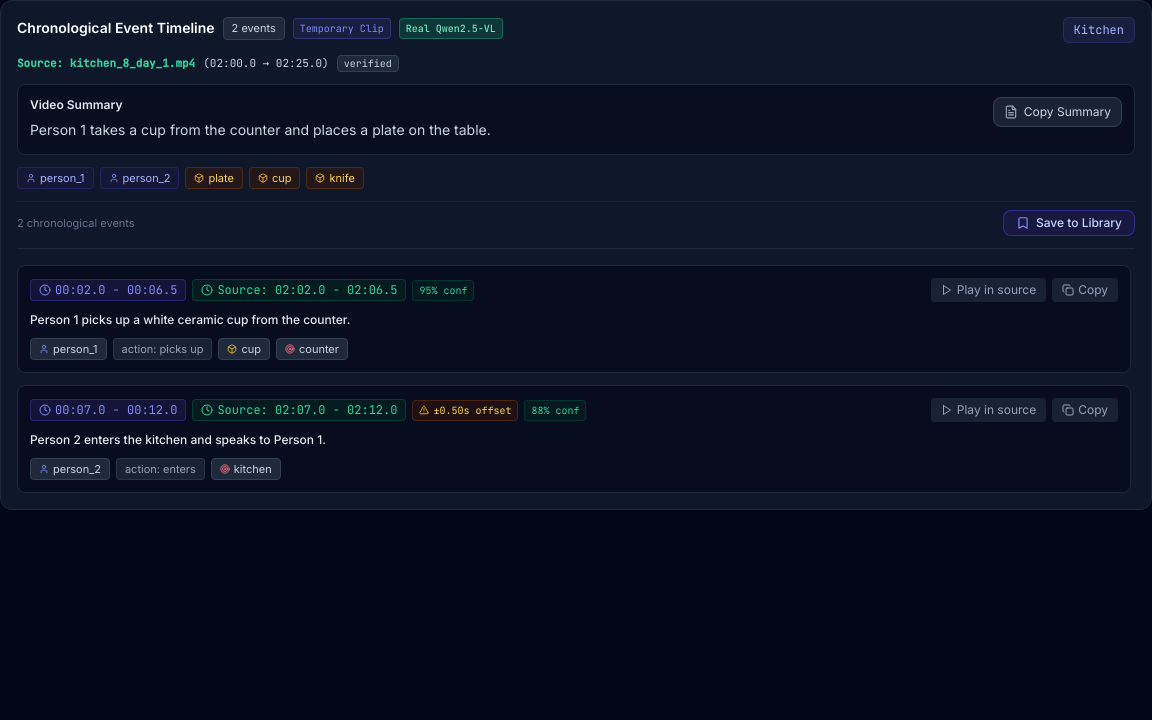
Test: Task 5: Video Understanding, QA, Review and Export Test Suite › 1. Video Understanding Workspace & Copy/Download Actions › copies summary to clipboard on click
This screenshot has width=1152, height=720.
Click the button with test id "copy-summary-btn": [1057, 112] box [993, 97, 1122, 127]
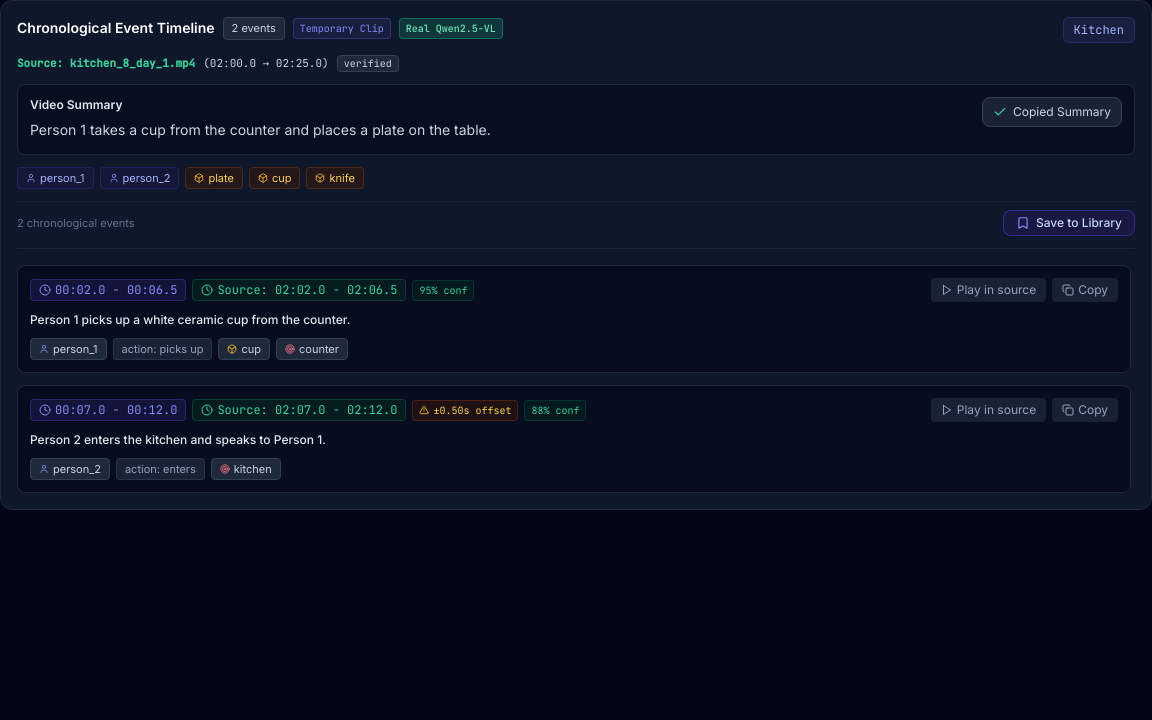
Now the text "Copied Summary" is shown, box [1013, 104, 1111, 120]
